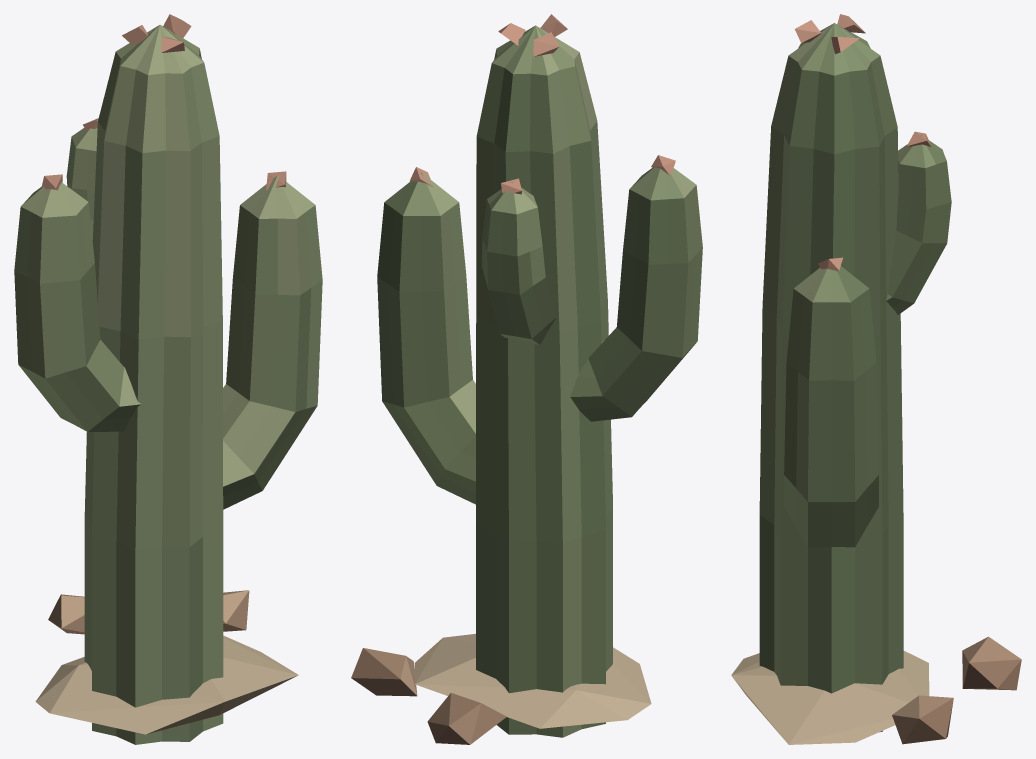
The model's file is tree_desert_1.glb.
The picture shows the model from 3 angles, left to right: view 1: azimuth 30°, elevation 25°; view 2: azimuth 150°, elevation 25°; view 3: azimuth 270°, elevation 25°; orthographic projection.
Visible parts, largest first — view 1: Body; view 2: Body; view 3: Body.
Boxes of the visible parts, <box> form: Body: <box>14,14,322,744</box>; Body: <box>351,14,702,744</box>; Body: <box>731,14,1021,744</box>.
Bounding box in the file's own units: 2.42 × 5.3 × 2.02.
